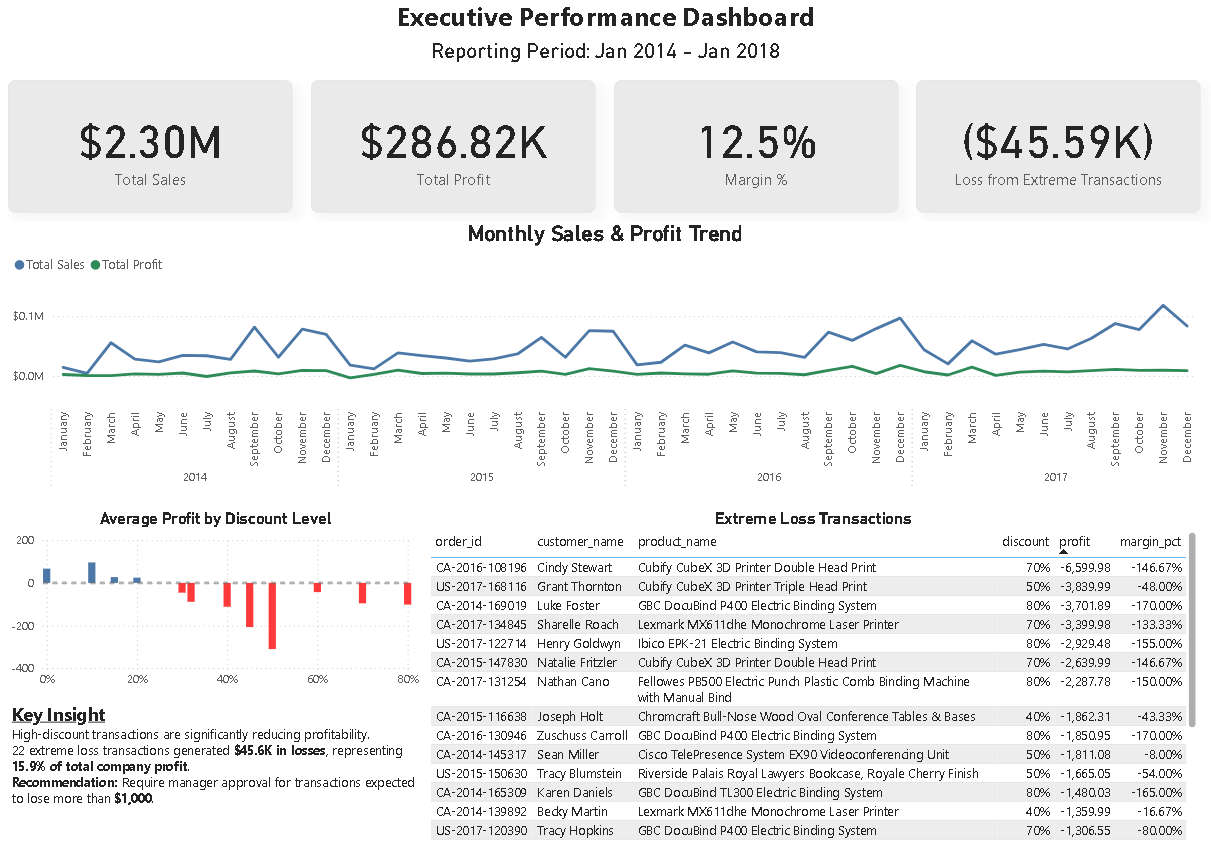

What the dashboard file says about the page in this screenshot:
{"tool":"powerbi","page":{"name":"Executive Performance Dashboard","canvas":[1280,900],"ordinal":0},"visuals":[{"type":"card","fields":{"Values":["_Measures.Extreme Loss $"]},"box":[967.8,91.7,300,140],"z":0},{"type":"card","fields":{"Values":["_Measures.Total Sales"]},"box":[10.5,91.9,300,140],"z":1000},{"type":"card","fields":{"Values":["_Measures.Total Profit"]},"box":[329.6,91.9,300,140],"z":2000},{"type":"card","fields":{"Values":["_Measures.Margin %"]},"box":[648.7,91.9,300,140],"z":3000},{"type":"lineChart","title":"Monthly Sales & Profit Trend","fields":{"Category":["dim_date.year","dim_date.calendar_date.Variation.Date Hierarchy.Month"],"Y":["_Measures.Total Sales","_Measures.Total Profit"]},"box":[11.1,240.6,1256.7,291.1],"z":4000},{"type":"clusteredColumnChart","title":"Average Profit by Discount Level","fields":{"Category":["fact_sales.discount"],"Y":["_Measures.Avg Profit"]},"box":[10,543.9,440,196.7],"z":5000},{"type":"tableEx","title":"Extreme Loss Transactions","fields":{"Values":["vw_extreme_loss_transactions.order_id","vw_extreme_loss_transactions.customer_name","vw_extreme_loss_transactions.product_name","vw_extreme_loss_transactions.discount","vw_extreme_loss_transactions.profit","vw_extreme_loss_transactions.margin_pct"]},"box":[450,544,818.3,356],"z":6000},{"type":"textbox","box":[406.3,0,467.9,51.5],"z":7000},{"type":"textbox","box":[10,741.7,442.2,157.8],"z":8000},{"type":"card","fields":{"Values":["_Measures.Report Date Range"]},"box":[410.8,36.9,457.8,47],"z":8001}]}

Visuals, with their boxes in screenshot pixels (x1, y1, x2, y2), scaled from the page's 1280x900 canvas onto the 1211x845 screenshot:
card - _Measures.Extreme Loss $: {"x1": 916, "y1": 86, "x2": 1199, "y2": 218}
card - _Measures.Total Sales: {"x1": 10, "y1": 86, "x2": 294, "y2": 218}
card - _Measures.Total Profit: {"x1": 312, "y1": 86, "x2": 596, "y2": 218}
card - _Measures.Margin %: {"x1": 614, "y1": 86, "x2": 898, "y2": 218}
"Monthly Sales & Profit Trend" lineChart: {"x1": 11, "y1": 226, "x2": 1199, "y2": 499}
"Average Profit by Discount Level" clusteredColumnChart: {"x1": 9, "y1": 511, "x2": 426, "y2": 695}
"Extreme Loss Transactions" tableEx: {"x1": 426, "y1": 511, "x2": 1200, "y2": 844}
textbox: {"x1": 384, "y1": 0, "x2": 827, "y2": 48}
textbox: {"x1": 9, "y1": 696, "x2": 428, "y2": 844}
card - _Measures.Report Date Range: {"x1": 389, "y1": 35, "x2": 822, "y2": 79}
